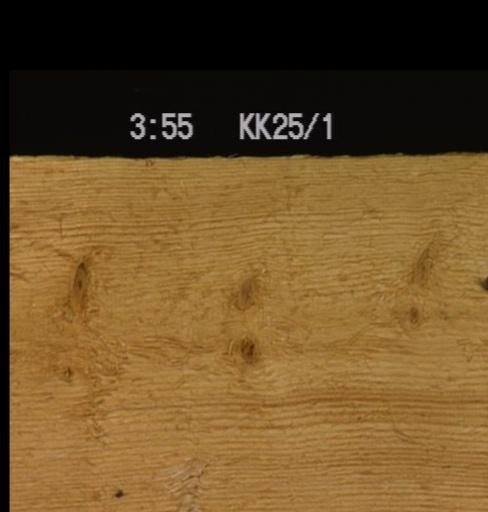small_knot: (403, 298, 428, 333)
sound_knot: (219, 253, 272, 315), (235, 330, 259, 368)
